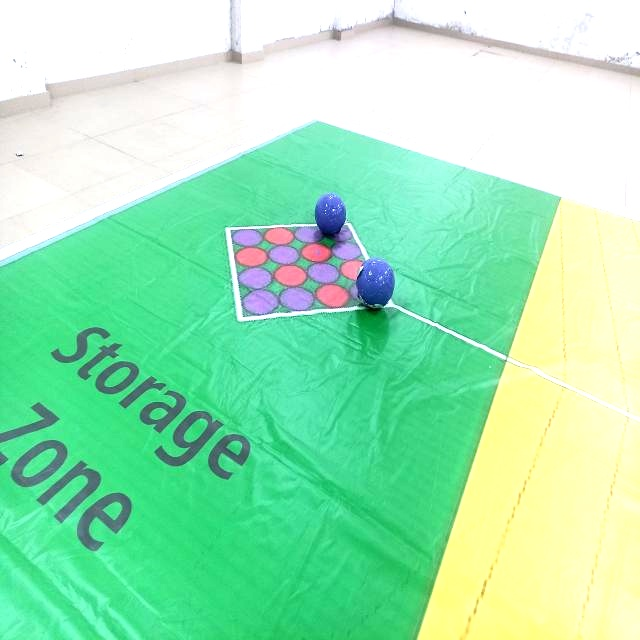purple_ball: (356, 255, 396, 312), (315, 192, 347, 235)
